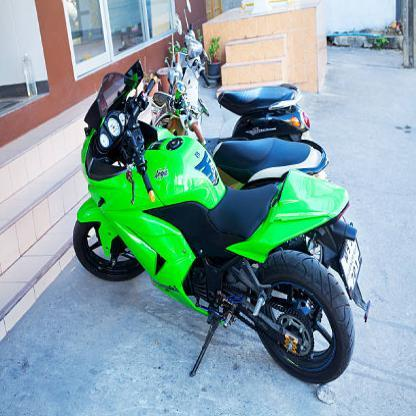Motorcycle: (61, 59, 359, 393)
